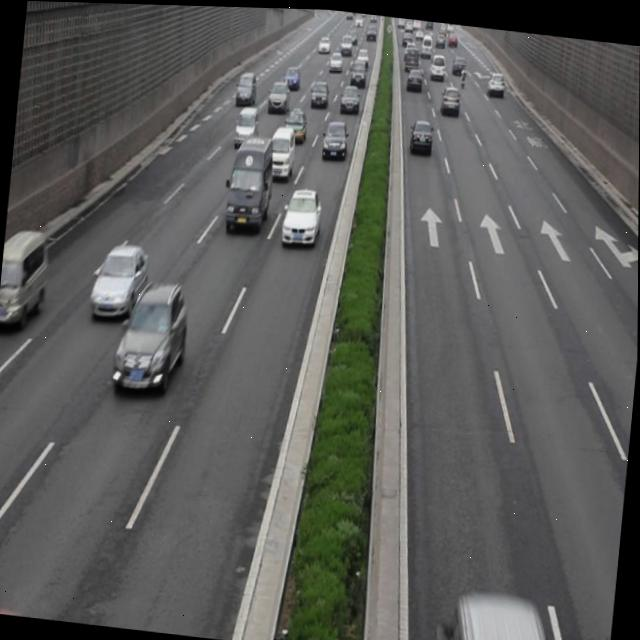car: (111, 273, 192, 392), (90, 237, 150, 323), (282, 182, 322, 246), (320, 115, 349, 160), (407, 113, 434, 154), (232, 66, 257, 105), (283, 102, 307, 141), (266, 75, 290, 112)
truck: (439, 585, 576, 640), (0, 225, 50, 329), (224, 129, 274, 233), (266, 122, 296, 177), (234, 100, 258, 143)
